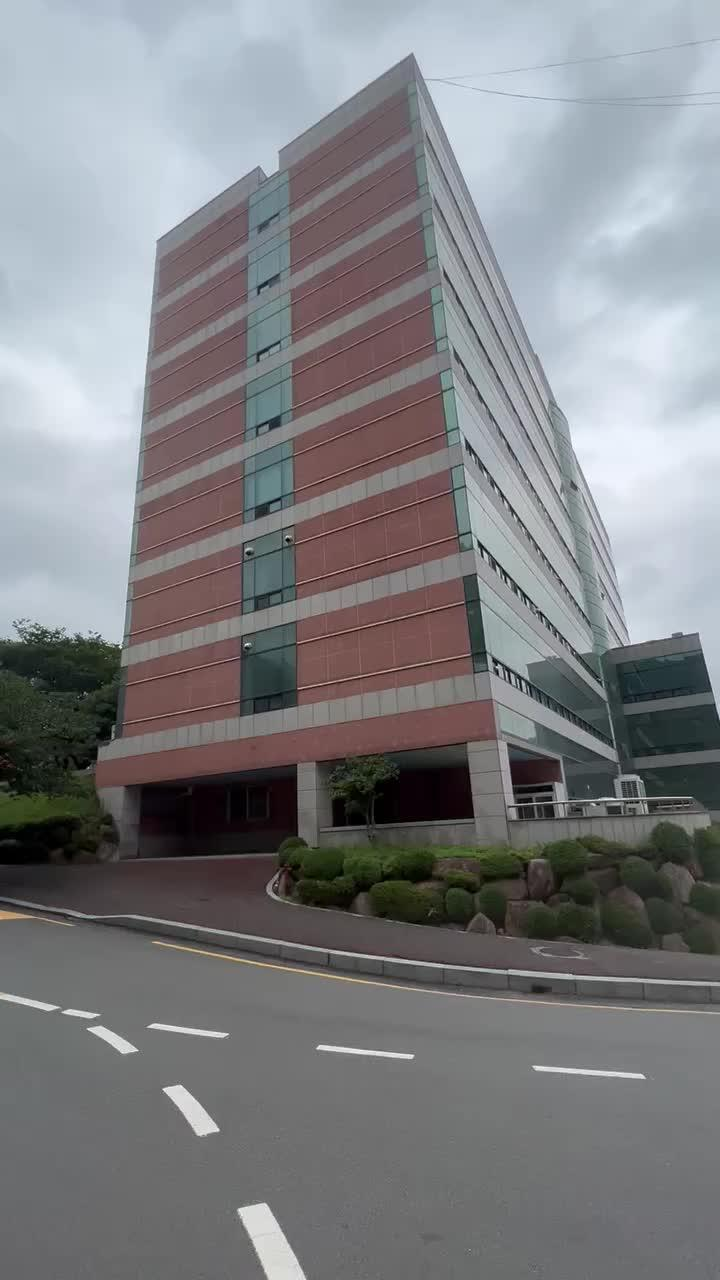building: (130, 64, 562, 742)
